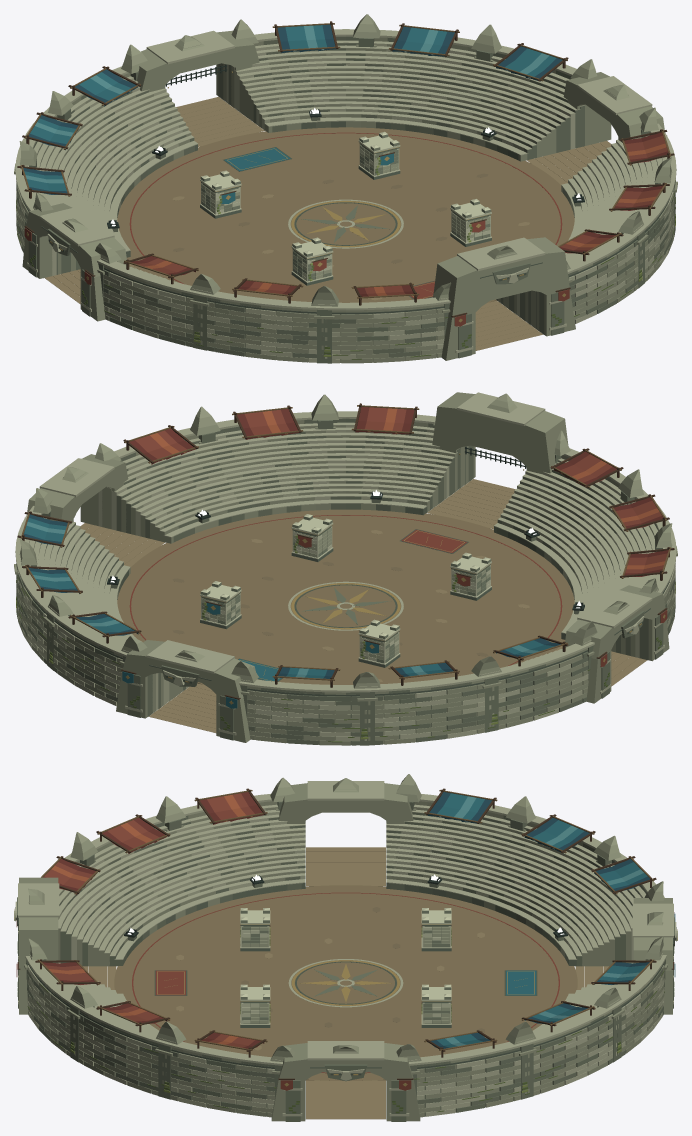
File: colosseum.glb
The picture shows the model from 3 angles, top to bottom: view 1: azimuth 30°, elevation 25°; view 2: azimuth 150°, elevation 25°; view 3: azimuth 270°, elevation 25°; orthographic projection.
Parts seen in each view (by area): view 1: Stone timber and canvas, Cover pillar SW, Cover pillar NE, Cover pillar NW, Cover pillar SE; view 2: Stone timber and canvas, Cover pillar NW, Cover pillar SE, Cover pillar SW, Cover pillar NE; view 3: Stone timber and canvas, Cover pillar NW, Cover pillar SW, Cover pillar NE, Cover pillar SE.
Boxes of the visible parts, x1,y1,x2,y2 form: Stone timber and canvas: [14, 14, 677, 363]; Cover pillar SW: [291, 237, 333, 285]; Cover pillar NE: [358, 131, 400, 179]; Cover pillar NW: [200, 170, 241, 218]; Cover pillar SE: [450, 199, 491, 246]; Stone timber and canvas: [14, 392, 677, 745]; Cover pillar NW: [358, 619, 400, 667]; Cover pillar SE: [291, 514, 333, 561]; Cover pillar SW: [450, 552, 491, 600]; Cover pillar NE: [200, 581, 241, 629]; Stone timber and canvas: [14, 774, 677, 1121]; Cover pillar NW: [421, 908, 451, 951]; Cover pillar SW: [240, 908, 270, 951]; Cover pillar NE: [421, 984, 451, 1027]; Cover pillar SE: [240, 984, 270, 1027].
Size of the model in its own units: 132 by 20.85 by 132.
